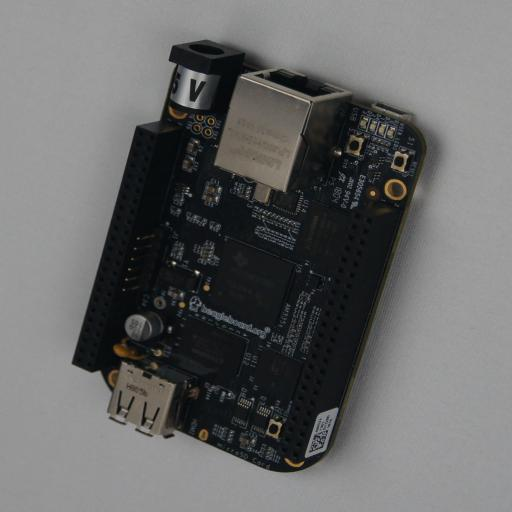Beaglebone Black: (72, 40, 437, 472)
